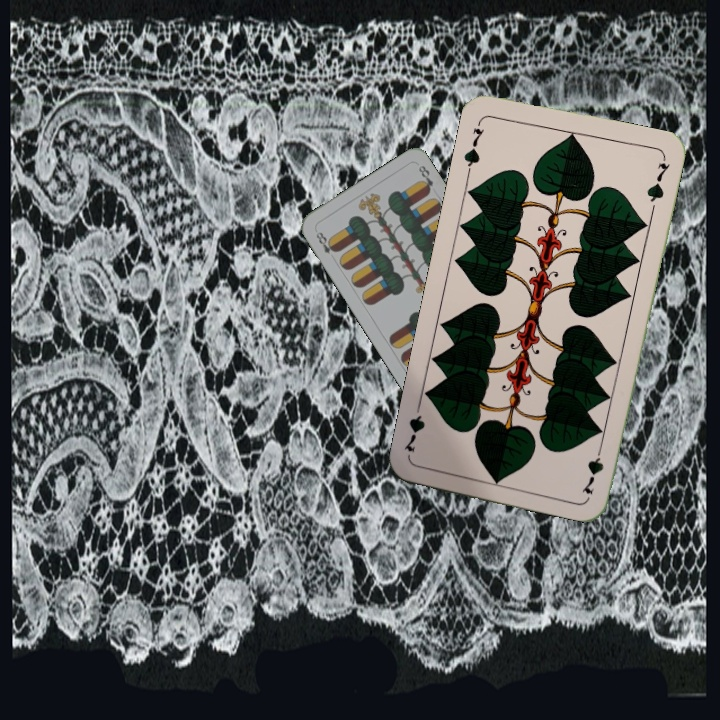E8: (311, 226, 340, 257)
G7: (578, 438, 606, 497), (459, 116, 487, 175)
